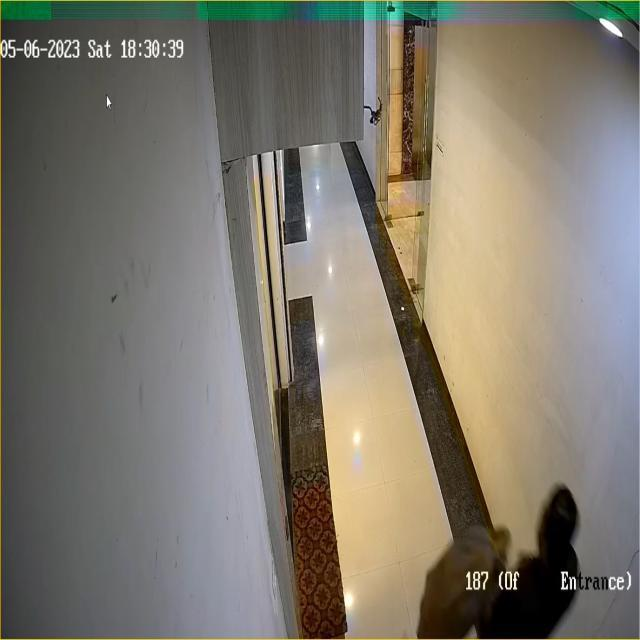gunny_bag: (413, 511, 510, 640)
